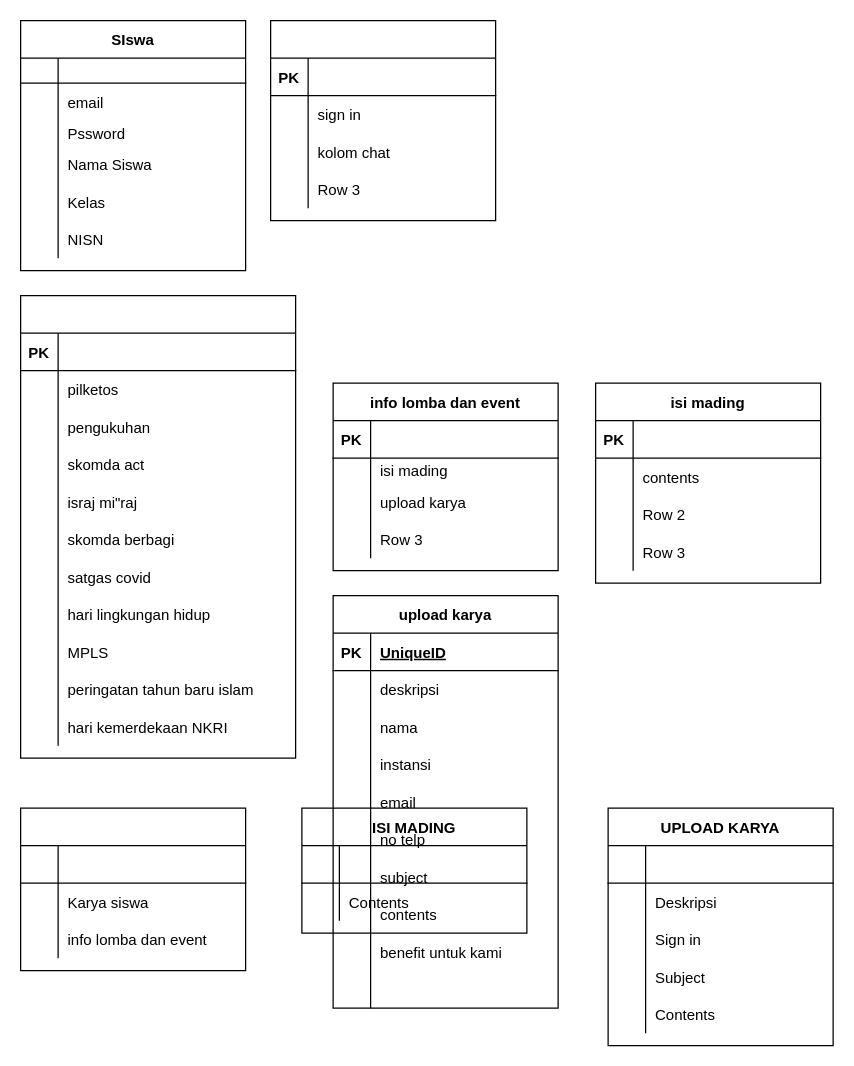
Image size: 854x1066. Some labels were removed from this diagram. Each missing label, with the box of its shape:
FORUM: (269, 19, 496, 221)
galeri osis: (19, 294, 296, 758)
MADING: (19, 807, 246, 971)
